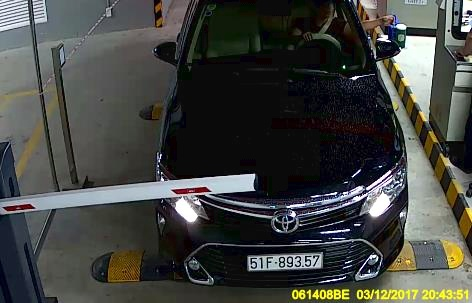plate: (244, 249, 326, 271)
